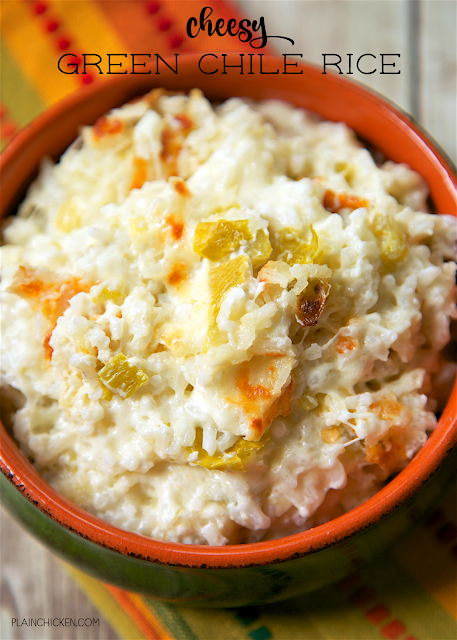plain spaghetti: (60, 152, 381, 491)
